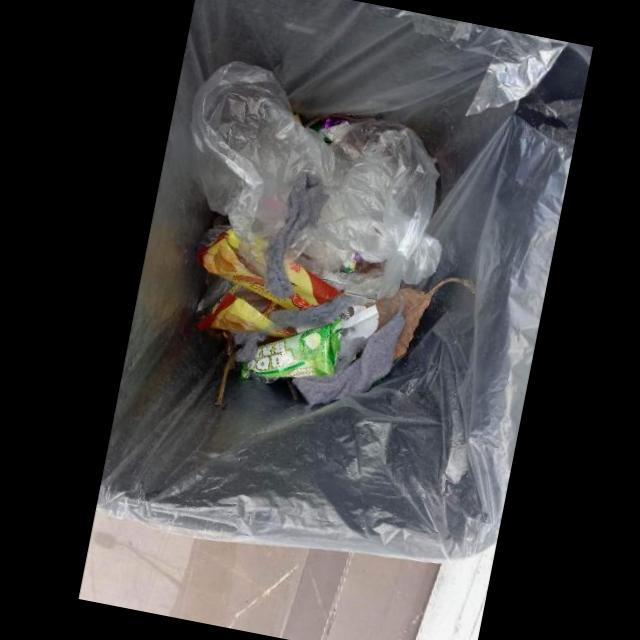bao_bi_thuc_pham: (197, 228, 344, 310), (241, 318, 343, 383), (197, 284, 296, 338)
la_cay: (363, 278, 476, 361)
tui_ni_long: (191, 64, 441, 304)
